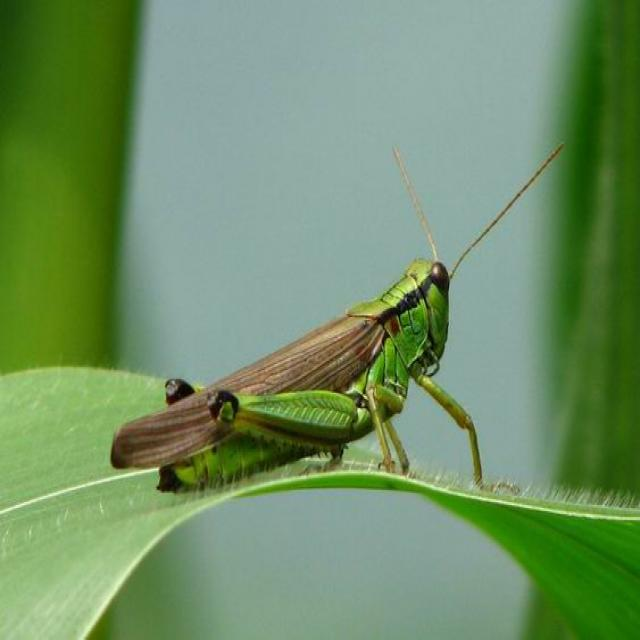ZhaMeng: (102, 188, 536, 506)
